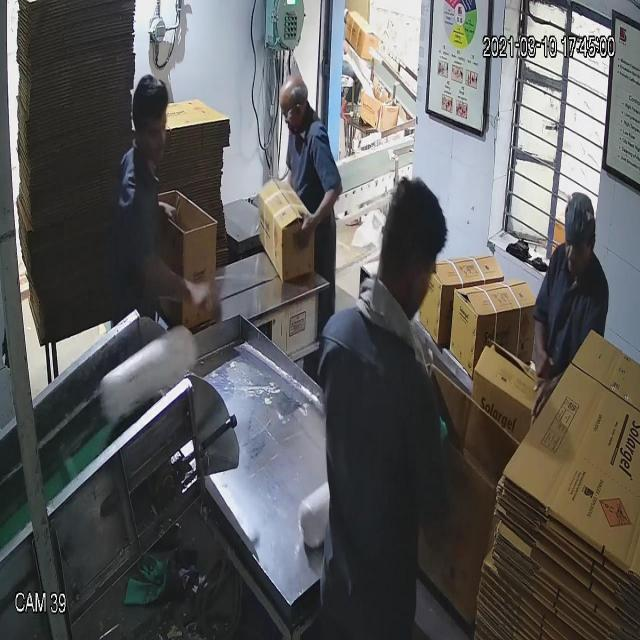No_Gloves: (28, 68, 541, 351)
